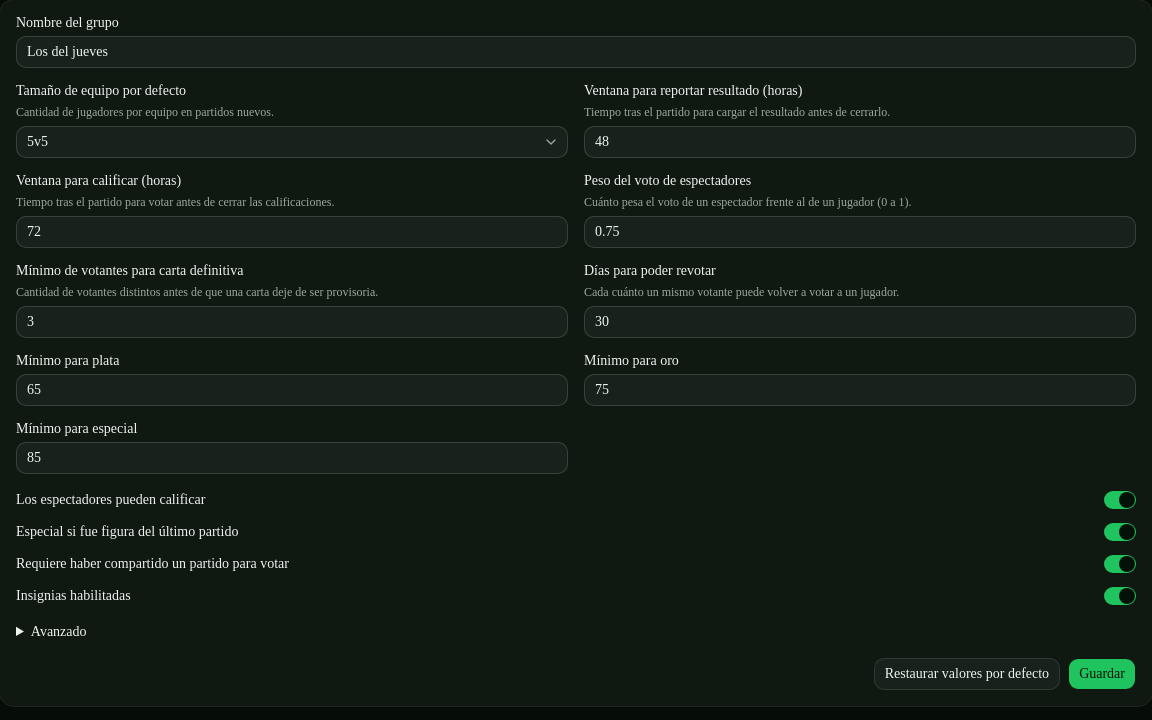
Scenario: GroupSettingsForm › blocks submit with a required-field error when a number input is cleared entirely
The image size is (1152, 720).
Clear the number field labelled "Ventana para reportar resultado (horas)" at (860, 142), box [584,126,1136,158]
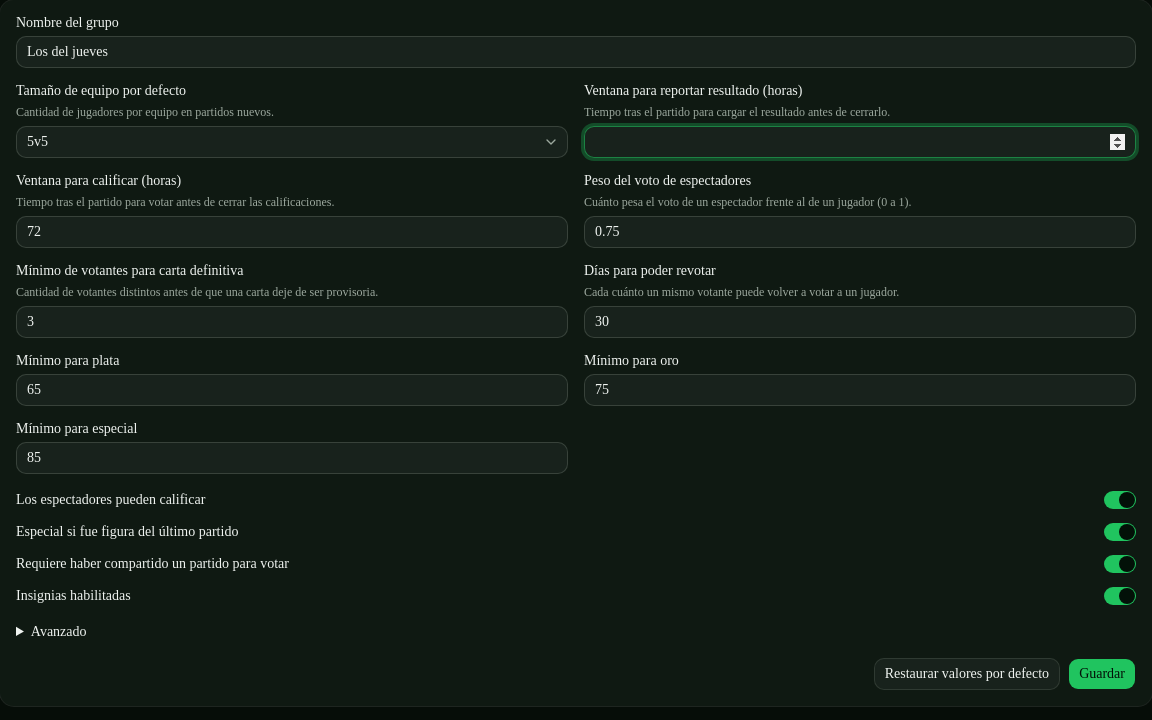
Click the button "Guardar".
click(1102, 674)  # box [1068,658,1136,690]
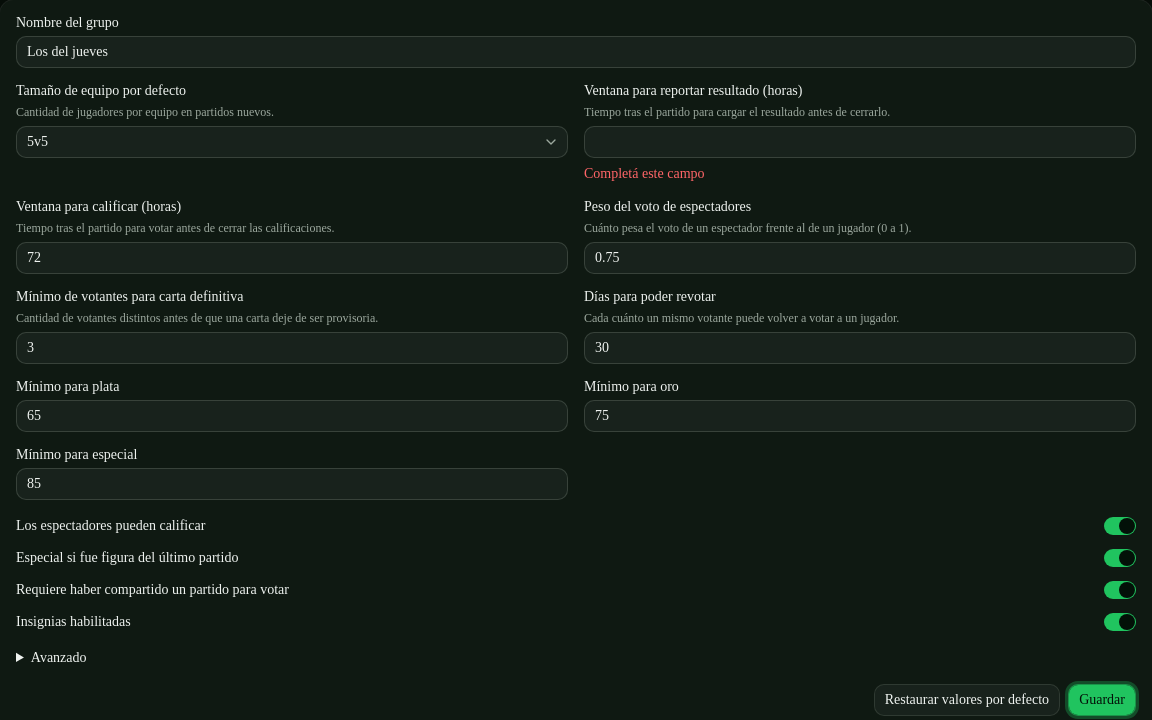
Now the text "Completá este campo" is shown, box [584,166,704,181]
